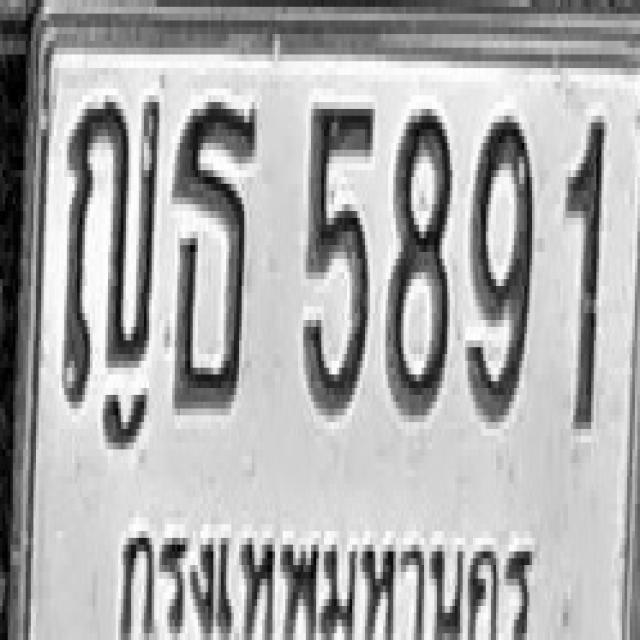1: (564, 112, 605, 432)
22YorYing: (63, 92, 161, 405)
33ThorThong: (172, 99, 257, 412)
5: (302, 99, 374, 418)
8: (387, 102, 451, 415)
9: (466, 109, 534, 422)
Bangkok: (121, 497, 545, 640)
